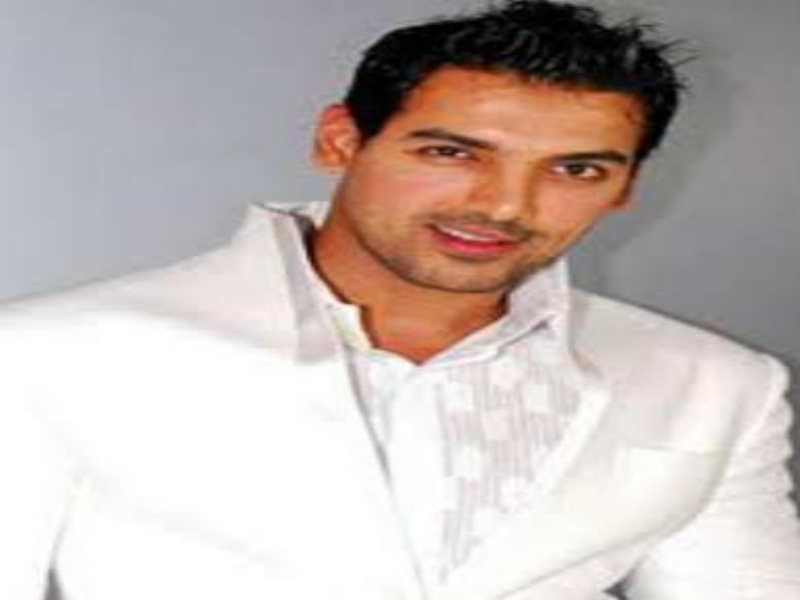TsisyArotava: (310, 5, 665, 310)
